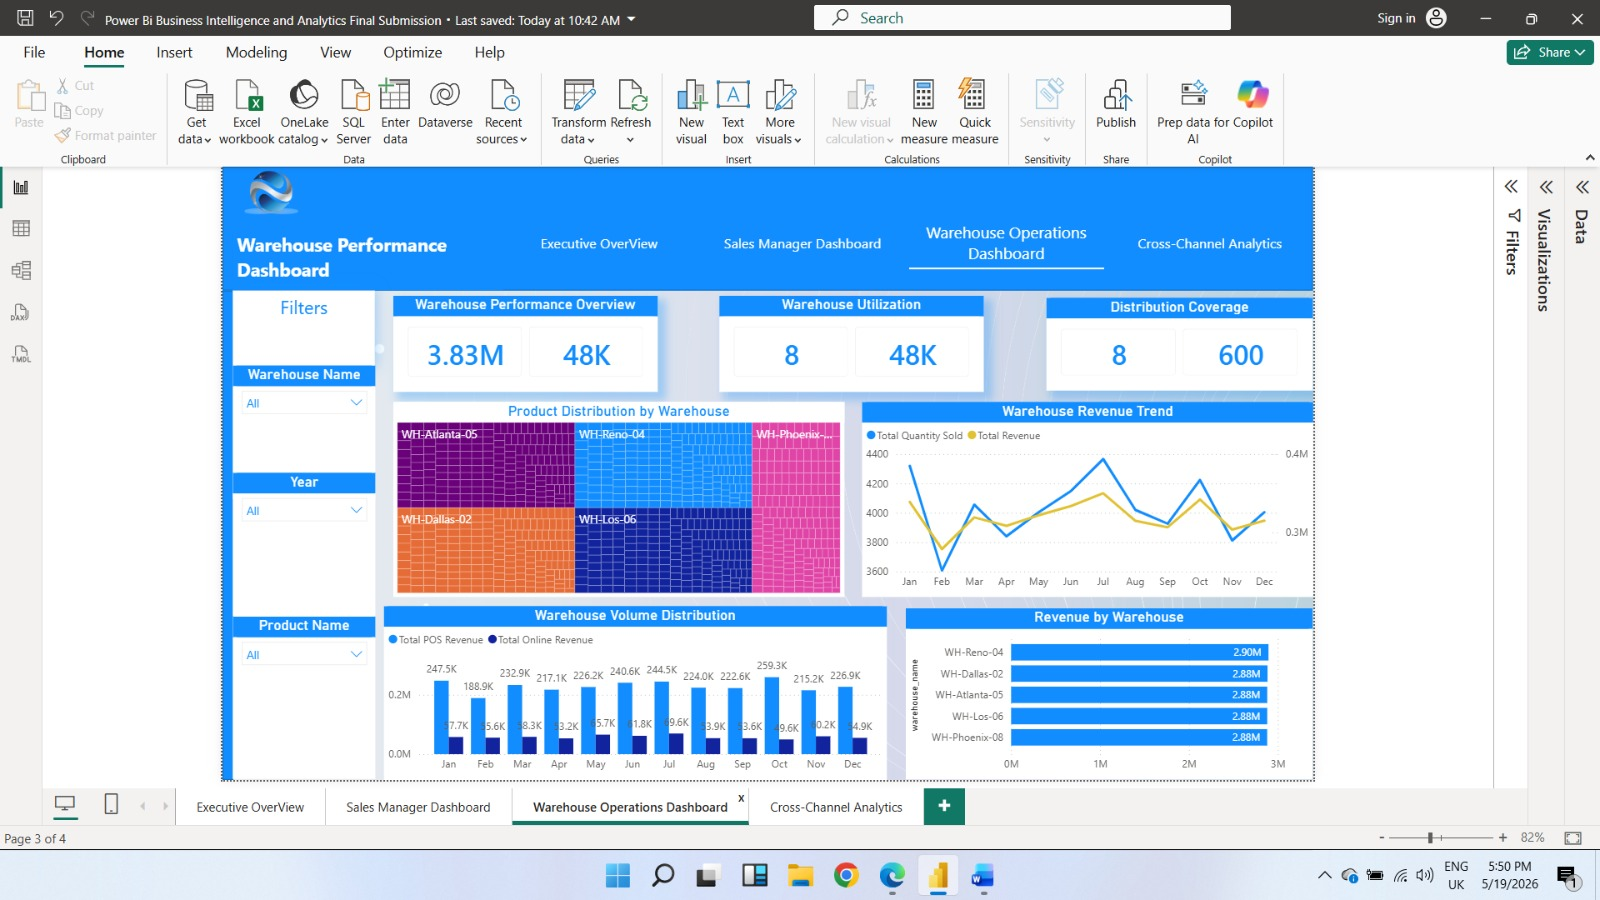

What the dashboard file says about the page in this screenshot:
{"tool":"powerbi","page":{"name":"Warehouse Operations Dashboard ","canvas":[1280,720],"ordinal":2},"visuals":[{"type":"shape","box":[0,0,1280,145.4],"z":0},{"type":"shape","box":[0,145.4,12.8,574.4],"z":1000},{"type":"textbox","box":[12.8,145.4,166.8,573],"z":2000},{"type":"textbox","box":[12.8,72.7,317.9,72.7],"z":3000},{"type":"image","box":[5.7,0,102.6,57],"z":4000},{"type":"textbox","box":[12.8,145.4,166.8,88.4],"z":5000},{"type":"pageNavigator","box":[328,57.6,949.6,63.1],"z":6000},{"type":"cardVisual","title":"Warehouse Performance Overview","fields":{"Data":["Measures .Total Revenue","Measures .Total Quantity Sold"]},"box":[200.3,151.6,310.1,112.5],"z":7000},{"type":"cardVisual","title":"Warehouse Utilization","fields":{"Data":["Measures .Active Warehouses","Measures .Total Quantity Sold"]},"box":[583.9,151.6,310.1,112.5],"z":8000},{"type":"cardVisual","title":"Distribution Coverage","fields":{"Data":["Measures .Active Warehouses","Measures .Distinct Products"]},"box":[967.1,153.7,312.9,108.4],"z":9000},{"type":"slicer","title":"Warehouse Name","fields":{"Values":["gold dim_warehouse.warehouse_name"]},"box":[12.3,233.3,167.4,156.4],"z":10000},{"type":"slicer","title":"Product Name","fields":{"Values":["gold dim_product.product_name"]},"box":[12.3,528.3,167.4,190.7],"z":11000},{"type":"clusteredColumnChart","title":"Warehouse Volume Distribution","fields":{"Category":["gold dim_date.Month Name"],"Y":["Measures .Total POS Revenue","Measures .Total Online Revenue"]},"box":[189.6,516,590.1,203.8],"z":12000},{"type":"clusteredBarChart","title":"Revenue by Warehouse","fields":{"Y":["Measures .Total Revenue"],"Category":["gold dim_warehouse.warehouse_name"]},"box":[802.5,518.8,477.5,201],"z":13000},{"type":"treemap","title":"Product Distribution by Warehouse","fields":{"Group":["gold dim_warehouse.warehouse_name"],"Details":["gold dim_product.product_name"],"Values":["Measures .Total Quantity Sold"]},"box":[200.3,275.8,529.7,229.2],"z":14000},{"type":"lineChart","title":"Warehouse Revenue Trend","fields":{"Category":["gold dim_date.Month Name"],"Y":["Measures .Total Quantity Sold"],"Y2":["Measures .Total Revenue"]},"box":[750.6,275.8,529.7,229.2],"z":15000},{"type":"slicer","title":"Year","fields":{"Values":["gold dim_date.Date Hierarchy.year"]},"box":[12.3,359.5,167.4,167.4],"z":16000}]}

Visuals, with their boxes on the page's 1280x720 design canvas (x1, y1, x2, y2). These are canvas units, not pixel positions in the 1600x900 screenshot, which may show the page scaled, cropped or inside an application window:
shape: rect(0, 0, 1280, 145)
shape: rect(0, 145, 13, 720)
textbox: rect(13, 145, 180, 718)
textbox: rect(13, 73, 331, 145)
image: rect(6, 0, 108, 57)
textbox: rect(13, 145, 180, 234)
pageNavigator: rect(328, 58, 1278, 121)
"Warehouse Performance Overview" cardVisual: rect(200, 152, 510, 264)
"Warehouse Utilization" cardVisual: rect(584, 152, 894, 264)
"Distribution Coverage" cardVisual: rect(967, 154, 1280, 262)
"Warehouse Name" slicer: rect(12, 233, 180, 390)
"Product Name" slicer: rect(12, 528, 180, 719)
"Warehouse Volume Distribution" clusteredColumnChart: rect(190, 516, 780, 720)
"Revenue by Warehouse" clusteredBarChart: rect(802, 519, 1280, 720)
"Product Distribution by Warehouse" treemap: rect(200, 276, 730, 505)
"Warehouse Revenue Trend" lineChart: rect(751, 276, 1280, 505)
"Year" slicer: rect(12, 360, 180, 527)
